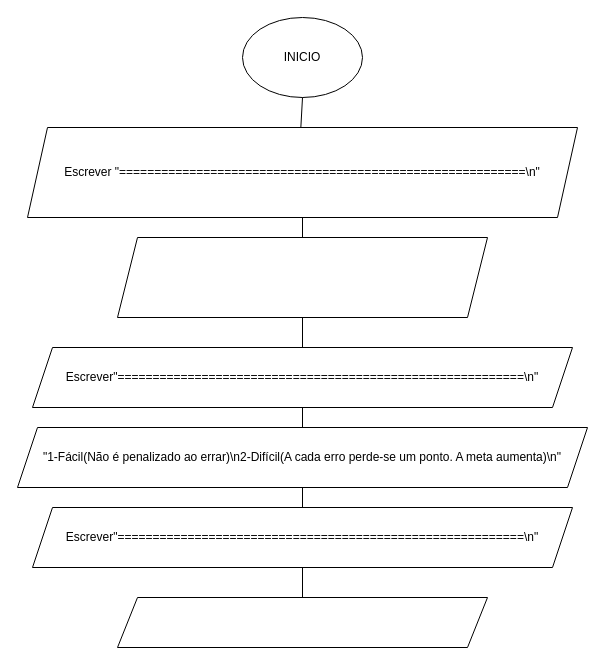
This 605x665 diagram has some shape labels left out. Here are the shapes that lost their labels. From the top down, the centre of each, then its label:
point (302, 277): Escrever"Escolha a dificuldade:\n"
point (302, 622): leia(dif)
